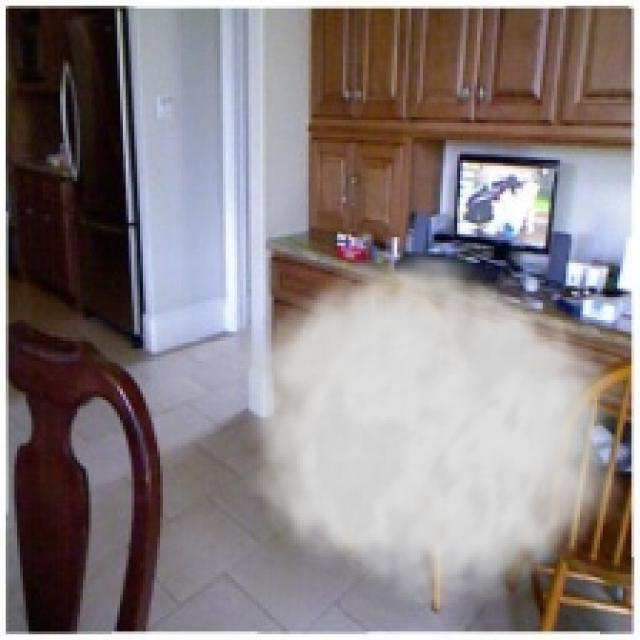Smoke: (226, 240, 628, 626)
